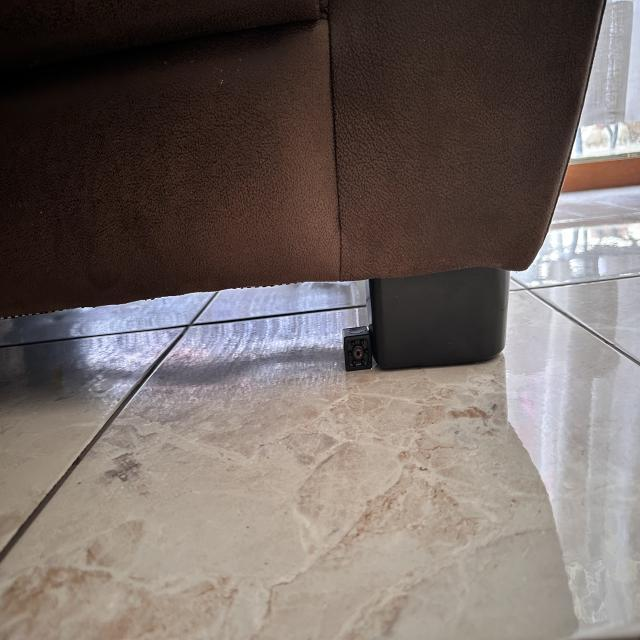hidden camera: (352, 346, 364, 361)
